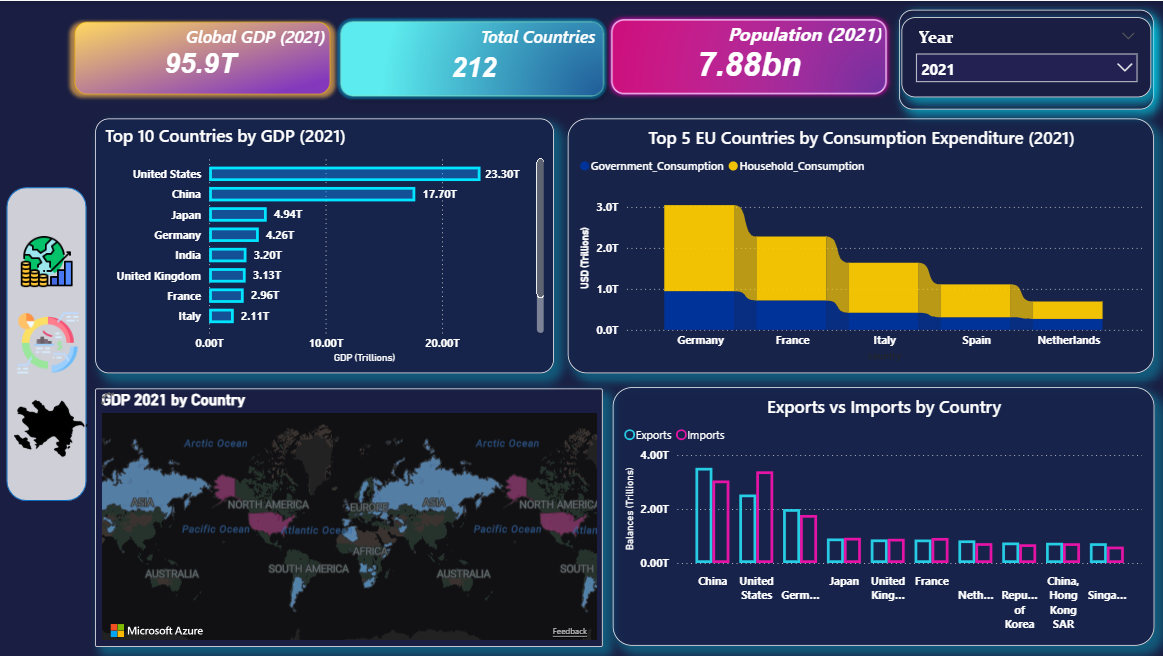

Layout of this report page (visuals, bound fields, positions):
{"tool":"powerbi","page":{"name":"Global Overview","canvas":[1280,720],"ordinal":0},"visuals":[{"type":"shape","box":[989.4,9.6,279.9,109.8],"z":0},{"type":"clusteredBarChart","title":"Top 10 Countries by GDP (2021)","fields":{"Category":["global_economy_indicators_clean.country"],"Y":["Sum(global_economy_indicators_clean.gdp)"]},"box":[105.8,129.1,504.1,280.2],"z":1000},{"type":"azureMap","title":"GDP 2021 by Country","fields":{"Category":["global_economy_indicators_clean.country"]},"box":[105.8,425.8,557.7,284.4],"z":2000},{"type":"image","box":[660,0,329.3,122.1],"z":3000},{"type":"image","title":"Gobal GDP (2021)","box":[72.7,12.3,301.9,104.3],"z":4000},{"type":"image","box":[349.9,15.1,344.4,101.5],"z":5000},{"type":"advanceCardE03760C5AB684758B56AA29F9E6C257B","title":"Global GDP (2021)","fields":{"mainMeasure":["Sum(global_economy_indicators_clean.gdp)"]},"box":[82.3,26.1,281.3,61.7],"z":6000},{"type":"advanceCardE03760C5AB684758B56AA29F9E6C257B","title":"Population (2021)","fields":{"mainMeasure":["Sum(global_economy_indicators_clean.population)"]},"box":[675.1,22,300.5,71.4],"z":7000},{"type":"advanceCardE03760C5AB684758B56AA29F9E6C257B","title":"Total Countries","fields":{"mainMeasure":["Measure.TotalCountries"]},"box":[384.2,26.1,275.8,71.4],"z":8000},{"type":"clusteredColumnChart","title":"Exports vs Imports by Country","fields":{"Category":["global_economy_indicators_clean.country"],"Y":["Sum(global_economy_indicators_clean.exports)","Sum(global_economy_indicators_clean.imports)"]},"box":[674.5,424.5,594.8,284.4],"z":9000},{"type":"shape","box":[8.2,204.7,87.9,344.8],"z":10000},{"type":"image","box":[22,230.8,60.4,111.3],"z":11000},{"type":"image","box":[13.7,342,79.7,67.3],"z":12000},{"type":"ribbonChart","title":"Top 5 EU Countries by Consumption Expenditure (2021)","fields":{"Category":["global_economy_indicators_clean.country"],"Y":["Sum(global_economy_indicators_clean.government_consumption)","Sum(global_economy_indicators_clean.household_consumption)"]},"box":[625,129.1,644.3,280.2],"z":13000},{"type":"image","box":[16.5,409.4,81,120.9],"z":14000},{"type":"slicer","fields":{"Values":["global_economy_indicators_clean.year"]},"box":[991.8,17.9,274.7,87.9],"z":15000}]}

Visuals, with their boxes in screenshot pixels (x1, y1, x2, y2), scaled from the page's 1280x720 canvas onto the 1163x656 screenshot:
shape: bbox=[899, 9, 1153, 109]
"Top 10 Countries by GDP (2021)" clusteredBarChart: bbox=[96, 118, 554, 373]
"GDP 2021 by Country" azureMap: bbox=[96, 388, 603, 647]
image: bbox=[600, 0, 899, 111]
"Gobal GDP (2021)" image: bbox=[66, 11, 340, 106]
image: bbox=[318, 14, 631, 106]
"Global GDP (2021)" advanceCardE03760C5AB684758B56AA29F9E6C257B: bbox=[75, 24, 330, 80]
"Population (2021)" advanceCardE03760C5AB684758B56AA29F9E6C257B: bbox=[613, 20, 886, 85]
"Total Countries" advanceCardE03760C5AB684758B56AA29F9E6C257B: bbox=[349, 24, 600, 89]
"Exports vs Imports by Country" clusteredColumnChart: bbox=[613, 387, 1153, 646]
shape: bbox=[7, 187, 87, 501]
image: bbox=[20, 210, 75, 312]
image: bbox=[12, 312, 85, 373]
"Top 5 EU Countries by Consumption Expenditure (2021)" ribbonChart: bbox=[568, 118, 1153, 373]
image: bbox=[15, 373, 89, 483]
slicer - global_economy_indicators_clean.year: bbox=[901, 16, 1151, 96]
